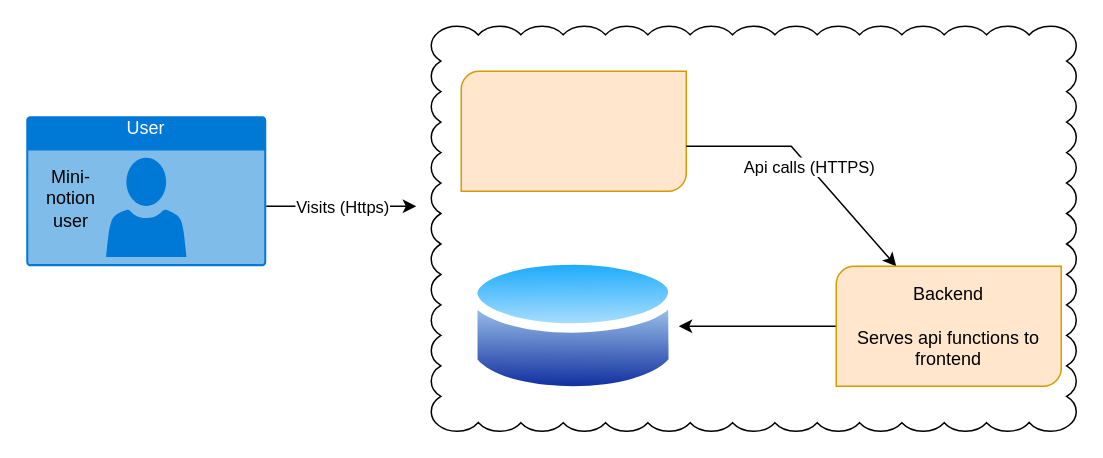
This 1103x458 diagram has some shape labels left out. The shapes that lost their labels are listed below. From the top down, each one's box as (x1, y1, x2, y2) in pixels, then its label:
(460, 70, 686, 191): Frontend Serves frontend pages to user
(468, 248, 678, 403): Database Stores the data
